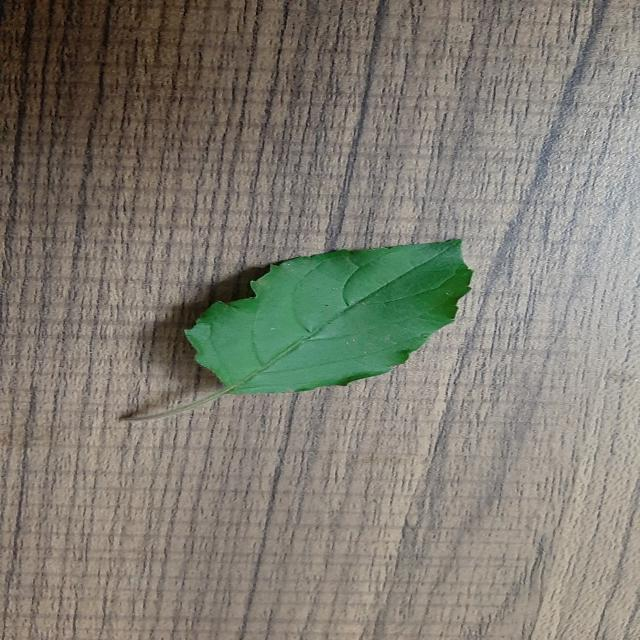tulsi: (125, 240, 471, 421)
